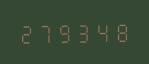eight: (113, 19, 131, 43)
four: (94, 19, 112, 43)
nine: (56, 20, 74, 44)
seven: (36, 20, 54, 44)
three: (75, 19, 93, 43)
two: (17, 20, 35, 44)
